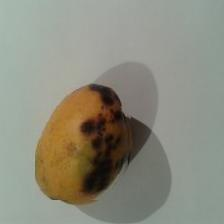Mango Semirotten: (36, 79, 134, 200)
